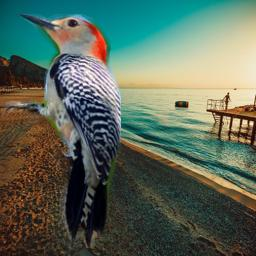Woodpecker: (1, 14, 121, 248)
